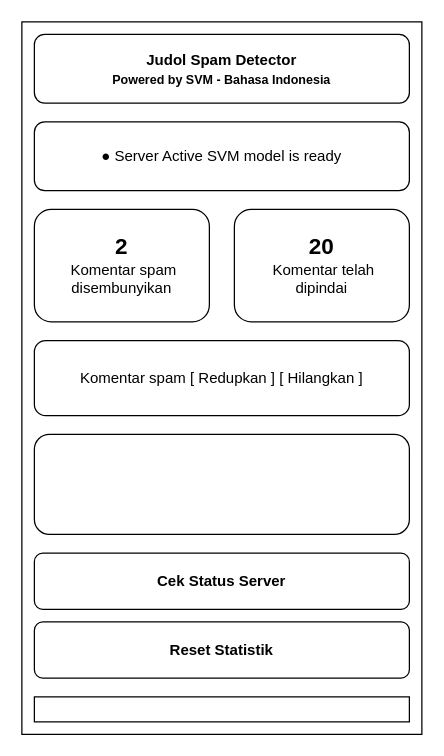
This 444x756 diagram has some shape labels left out. The shapes that lost their labels are listed below. From the top down, each one's centre as x and y in pixels, then its label:
pixel 221 483: Confidence Threshold [ 75% ] 50% ─────────────────●─────── 95%
pixel 221 709: SVM Linear Kernel Bahasa Indonesia
